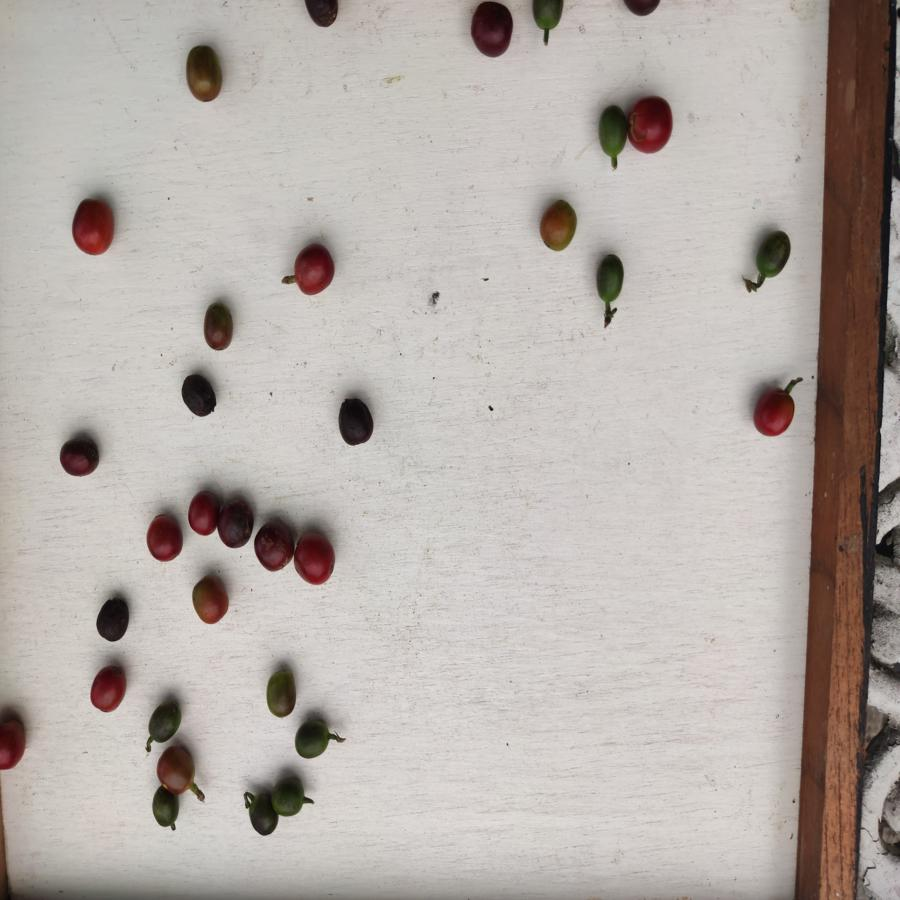Inmaduro: (755, 228, 794, 280), (294, 718, 335, 761), (596, 104, 628, 156), (146, 703, 184, 746), (595, 253, 625, 304), (269, 779, 306, 818), (247, 794, 281, 833), (149, 788, 181, 828), (528, 1, 566, 31)
Maduro: (72, 198, 123, 255), (628, 95, 676, 154), (751, 386, 802, 441), (289, 240, 339, 296), (292, 528, 341, 585), (86, 665, 133, 714), (146, 513, 188, 563), (185, 487, 219, 540), (1, 716, 27, 768)
Pinton: (182, 41, 226, 105), (154, 741, 202, 792), (191, 574, 235, 627), (537, 197, 578, 253), (202, 299, 237, 354), (262, 668, 299, 719)
Sobremaduro: (470, 1, 518, 58), (252, 519, 295, 573), (216, 497, 257, 552), (338, 395, 376, 450), (58, 433, 102, 477), (181, 373, 218, 422), (97, 599, 130, 640)
